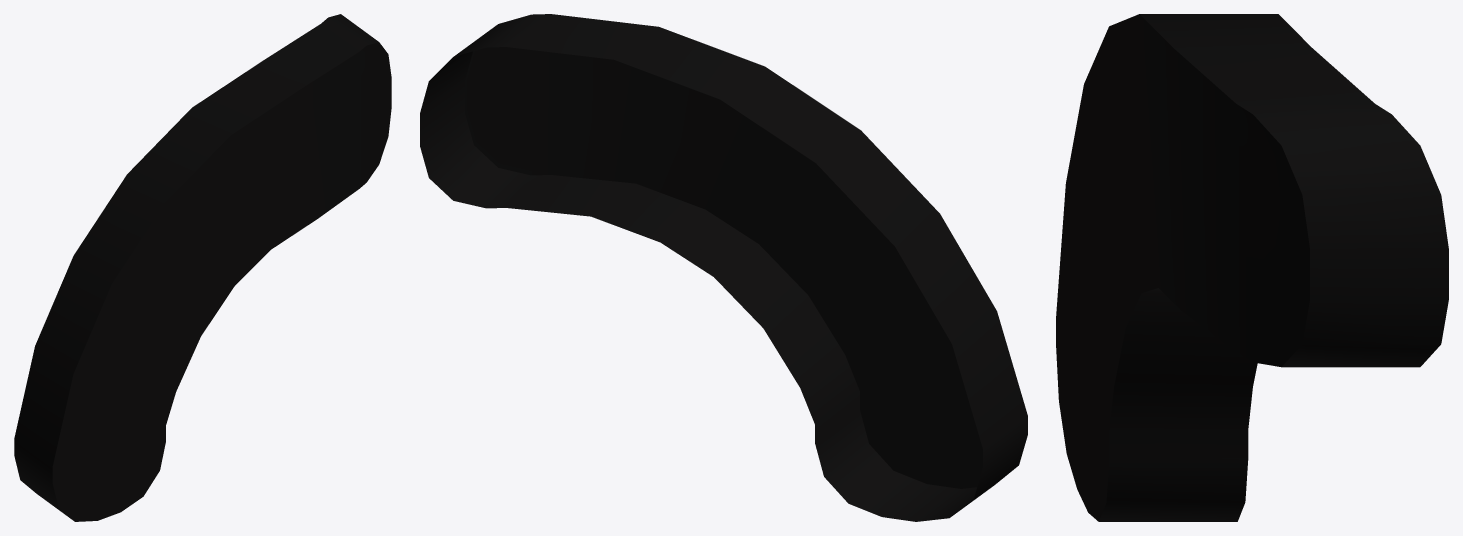
Rendered from Mouth_Meh_01.fbx.
3 renders of one model, left to right at view 1: azimuth 30°, elevation 25°; view 2: azimuth 150°, elevation 25°; view 3: azimuth 270°, elevation 25°, orthographic. The views are drawn at different scales.
Visible parts, largest first — view 1: Mouth_Meh_01; view 2: Mouth_Meh_01; view 3: Mouth_Meh_01.
Boxes of the visible parts, x1,y1,x2,y2 form: Mouth_Meh_01: (14, 14, 391, 521); Mouth_Meh_01: (420, 14, 1027, 521); Mouth_Meh_01: (1056, 14, 1448, 521).
Size of the model in its own units: 21.12 by 17.86 by 9.7.
